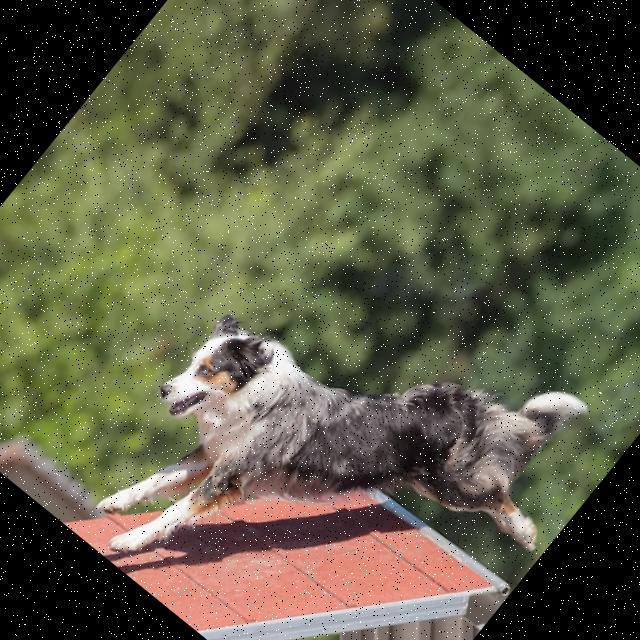Dog: (62, 190, 624, 640)
